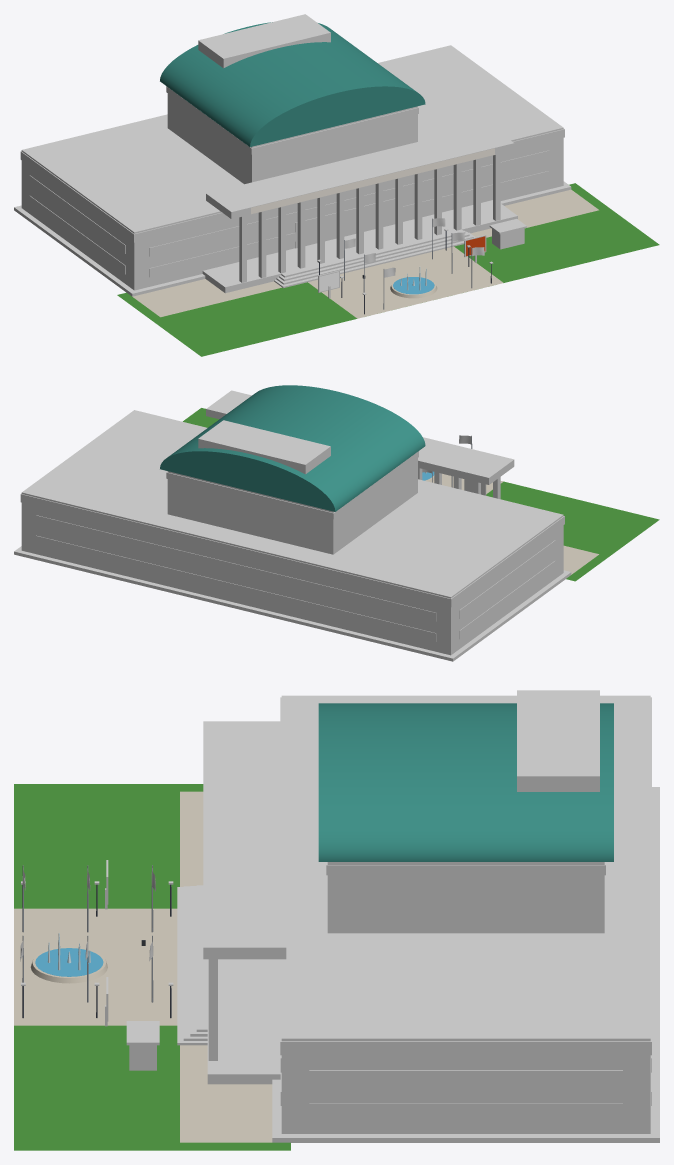
File: treich-palais-culture.glb
3 renders of one model, top to bottom at view 1: azimuth 30°, elevation 25°; view 2: azimuth 150°, elevation 25°; view 3: azimuth 270°, elevation 25°, orthographic. The views are drawn at different scales.
Size of the model in its own units: 94 by 28 by 70.
